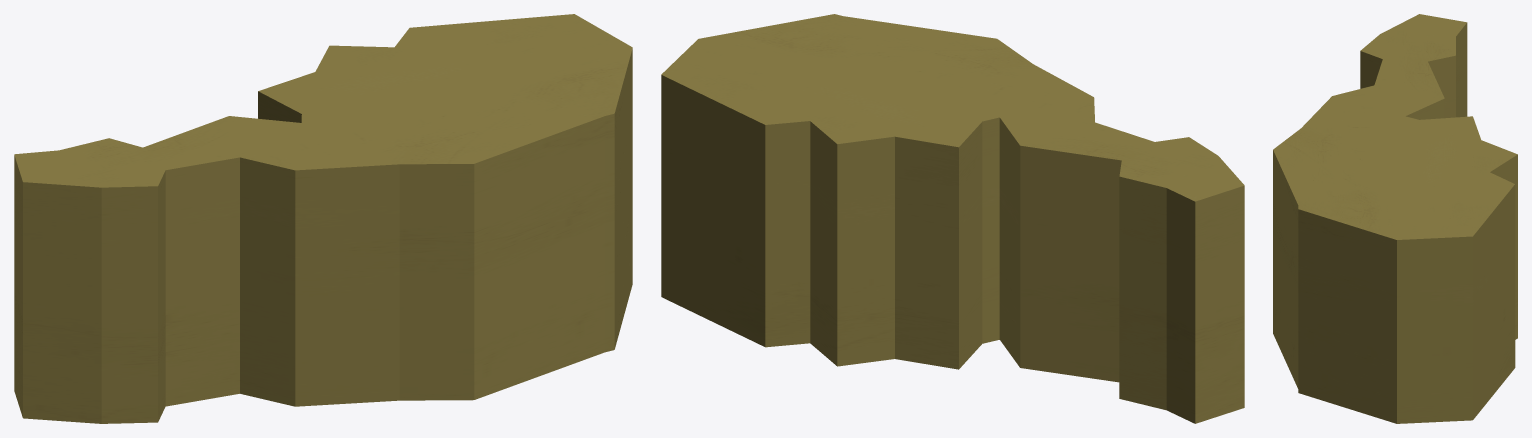
The model's file is austria.DAE.
3 renders of one model, left to right at view 1: azimuth 30°, elevation 25°; view 2: azimuth 150°, elevation 25°; view 3: azimuth 270°, elevation 25°, orthographic. The views are drawn at different scales.
Parts seen in each view (by area): view 1: Austria; view 2: Austria; view 3: Austria.
Part boxes in pixels (<box>): Austria: <box>14,14,632,423</box>; Austria: <box>661,14,1244,423</box>; Austria: <box>1273,14,1517,423</box>.
Bounding box in the file's own units: 65.91 × 30.18 × 25.
Materials: 1 (1 with a texture image).
